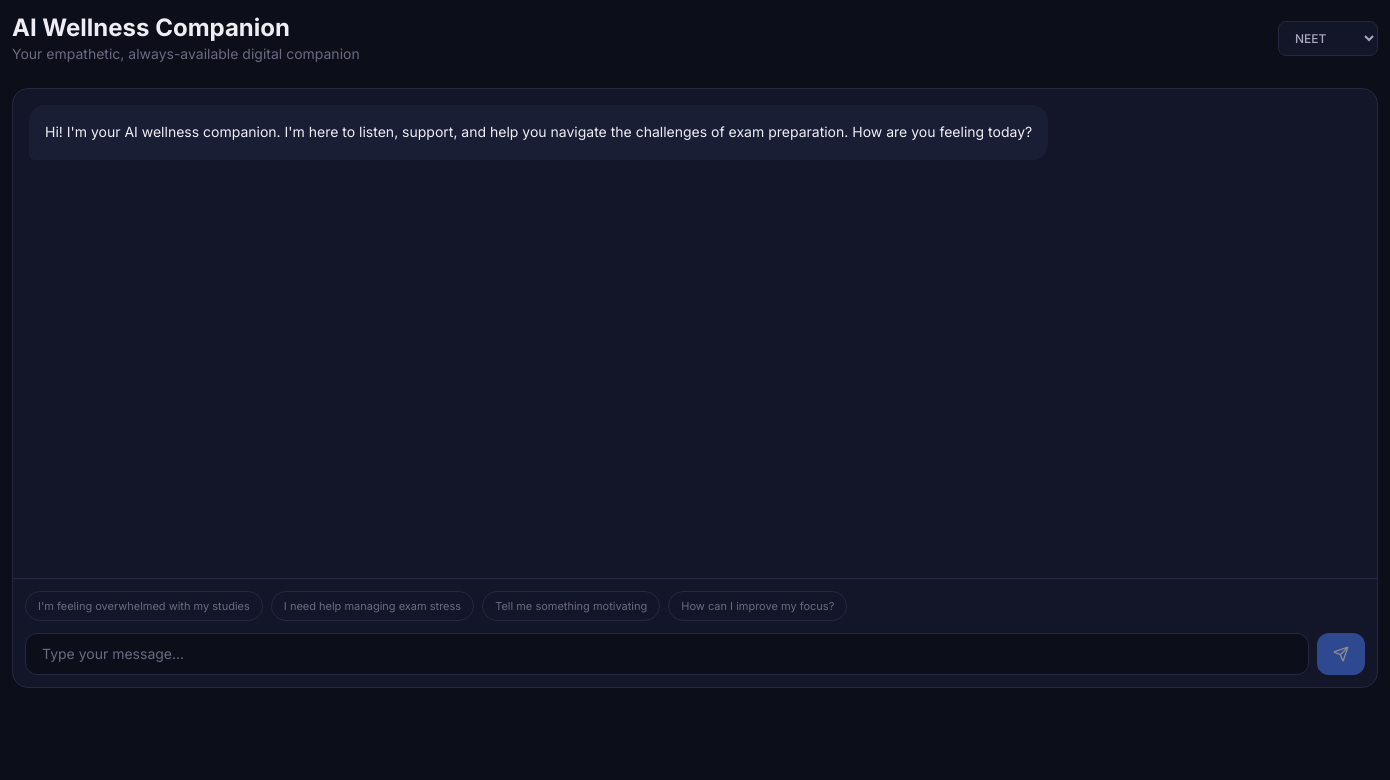
Scenario: AI Companion Page [CodeQuality:Efficiency:Accessibility:Security:Testing:ProblemStatement] › [Testing] send button is enabled when input has text
The width and height of the screenshot is (1390, 780).
Type "I am stressed" into the field named "Type your message for the AI companion" at [667, 654], box [25,633,1309,675]
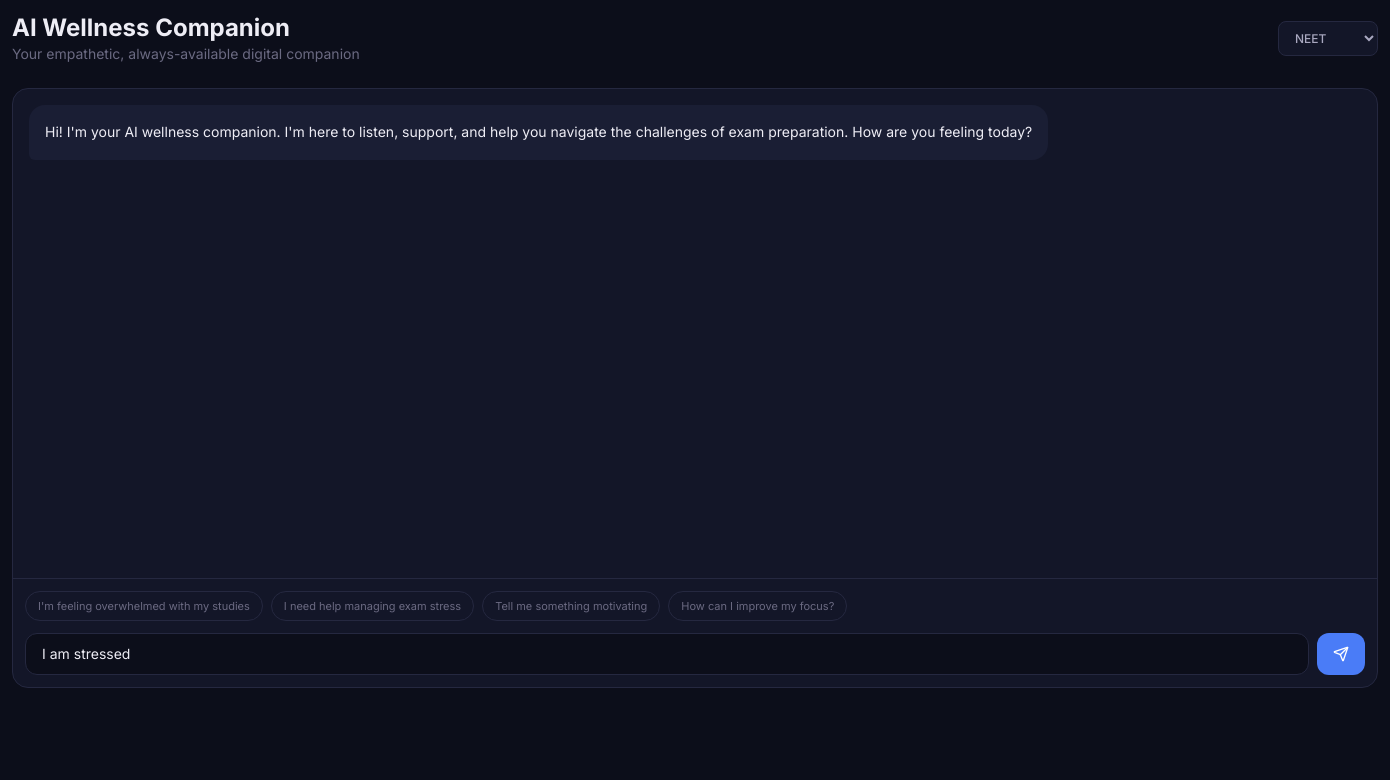
Expected: the button named "Send message" is enabled, [1317,633,1365,675]
